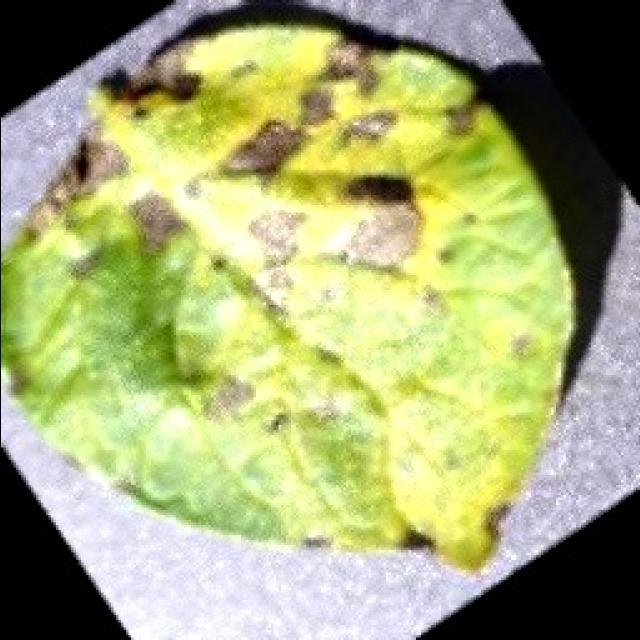leaves: (0, 0, 636, 607)
